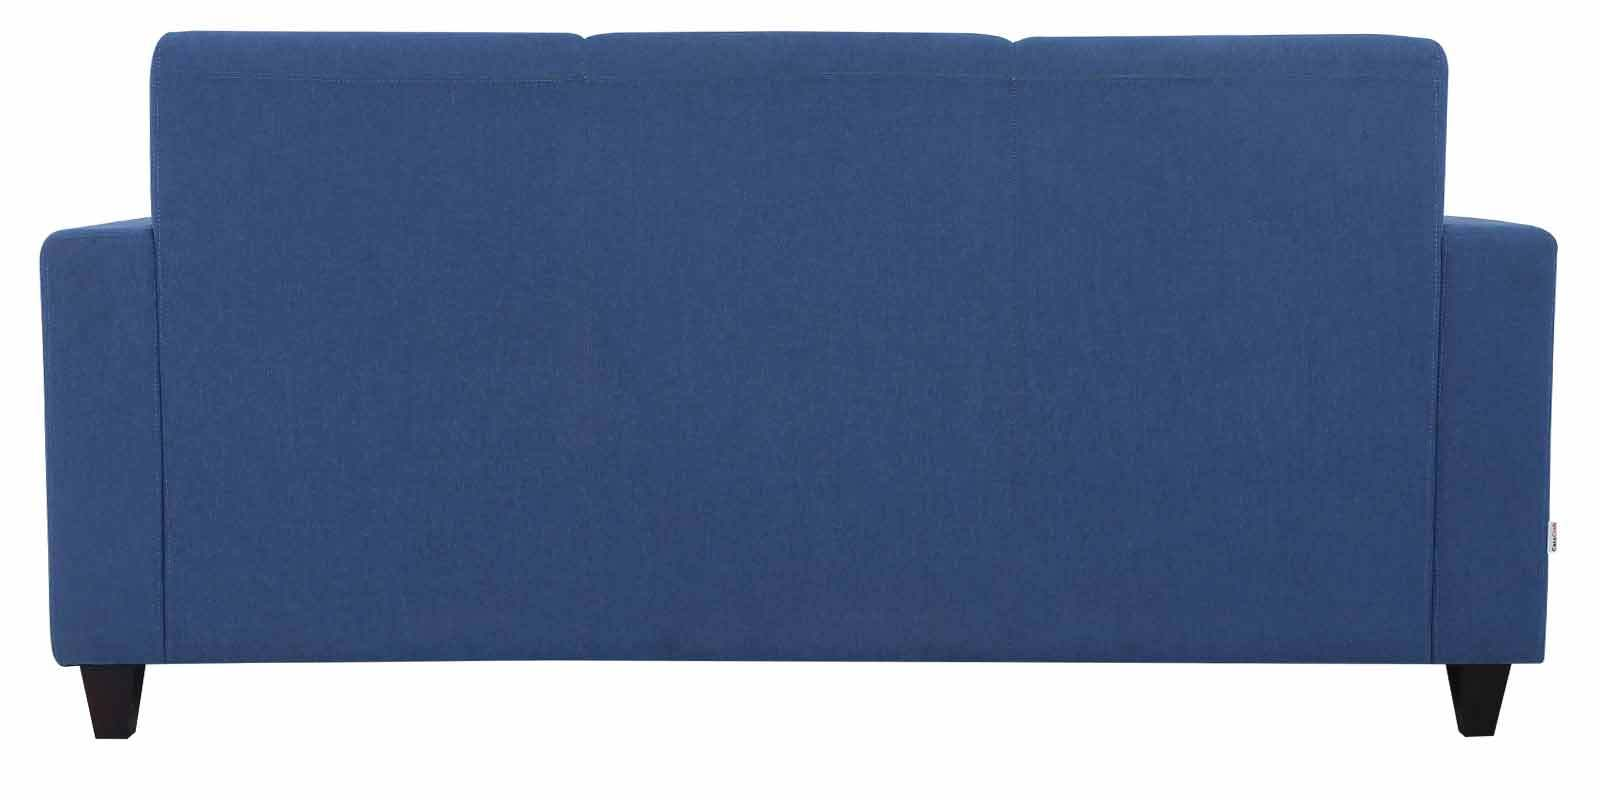Alba Three seater Seater Sofa in Denim Blue Colour by CasaCraft: (23, 21, 1562, 751)
